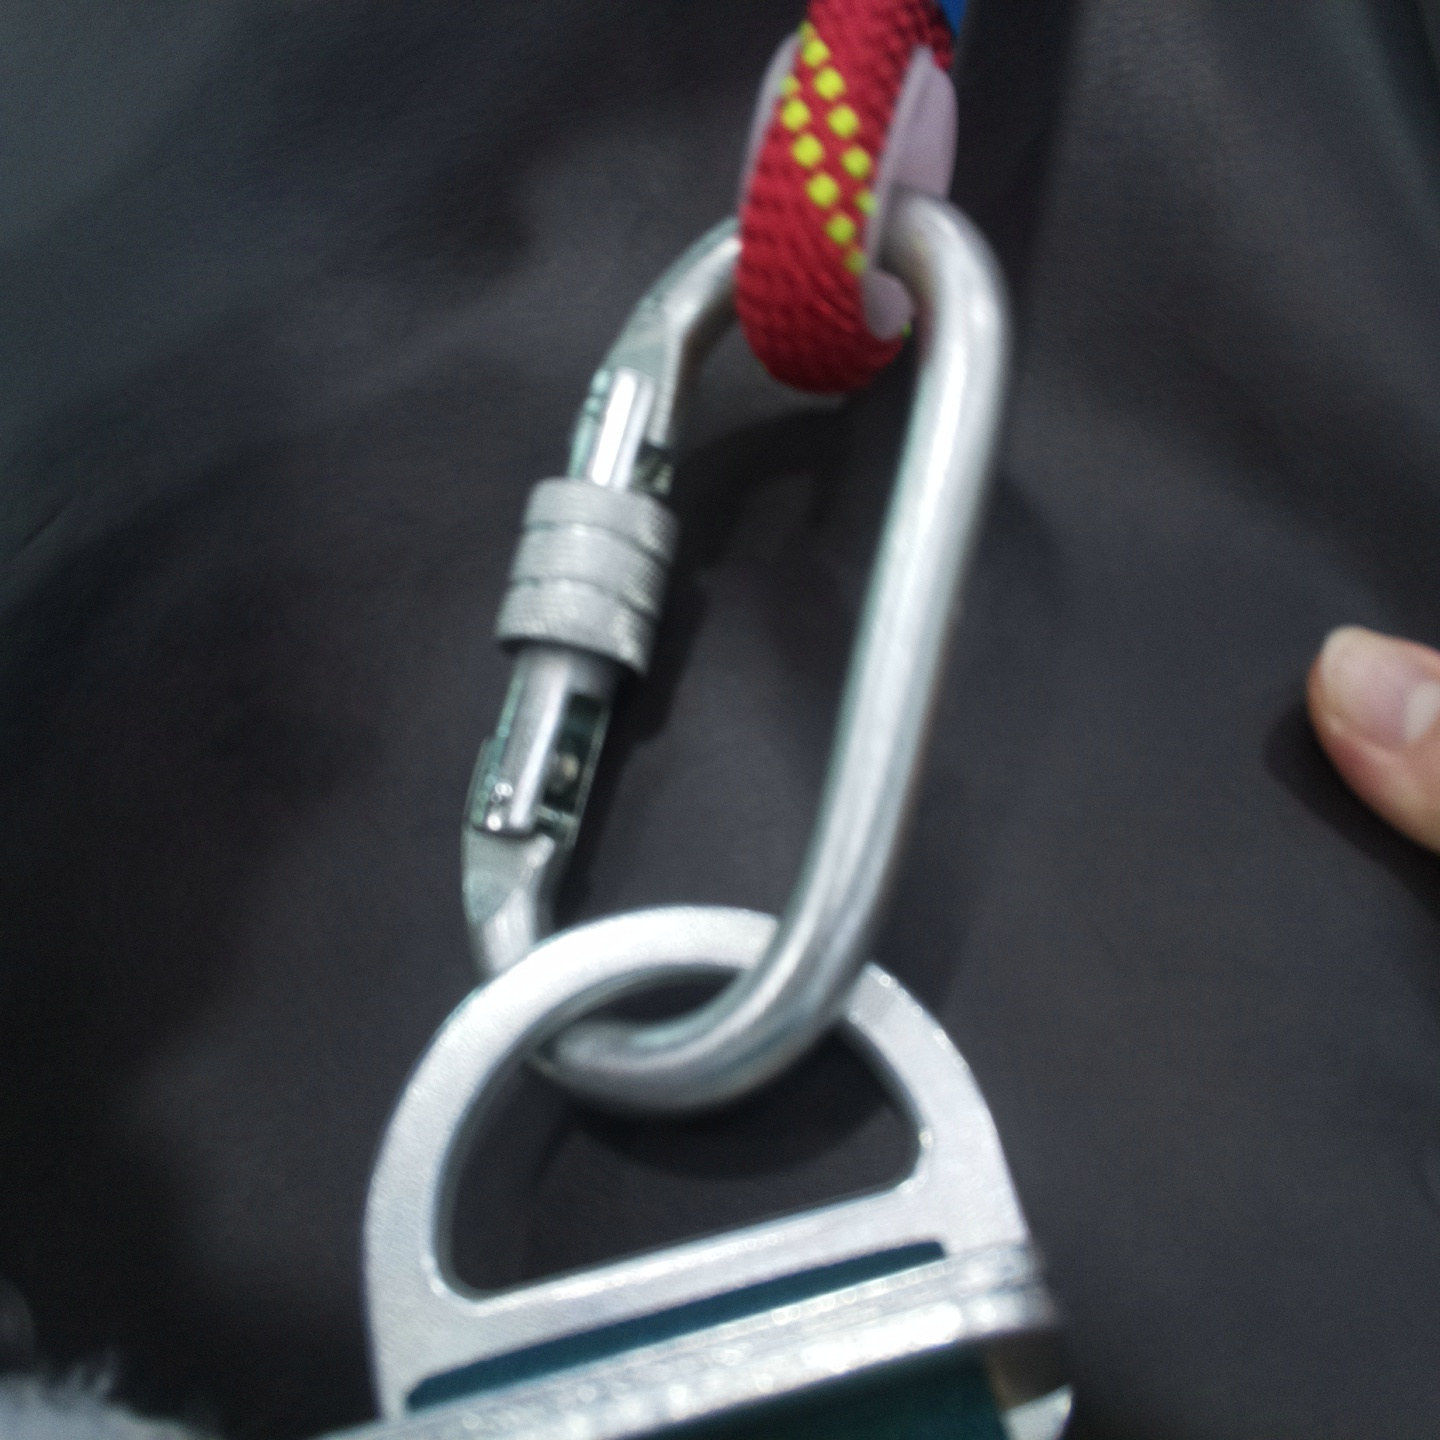SUCCESS: (359, 497, 1015, 1411)
